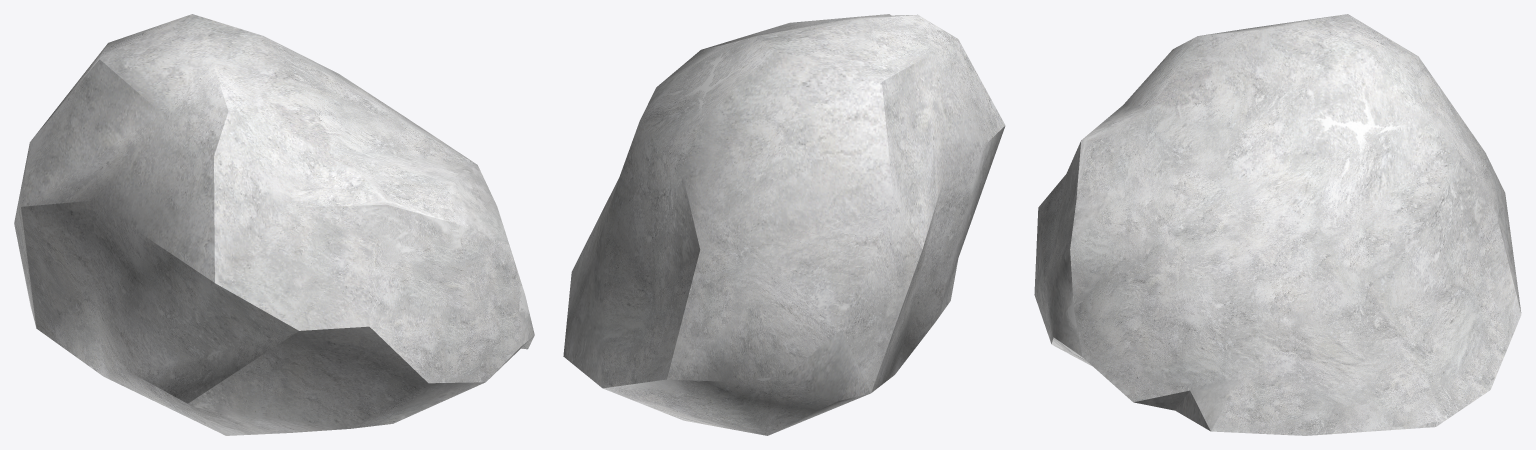
Rendered from rock_00B_lp2.fbx.
3 views of the same model, side by side, from view 1: azimuth 30°, elevation 25°; view 2: azimuth 150°, elevation 25°; view 3: azimuth 270°, elevation 25° (orthographic). The views are drawn at different scales.
Parts seen in each view (by area): view 1: rock_00B_lp2; view 2: rock_00B_lp2; view 3: rock_00B_lp2.
Part boxes in pixels (x1=…): rock_00B_lp2: x1=14, y1=14, x2=534, y2=435; rock_00B_lp2: x1=563, y1=14, x2=1005, y2=435; rock_00B_lp2: x1=1034, y1=14, x2=1521, y2=435.
Size of the model in its own units: 235 by 207 by 265.
